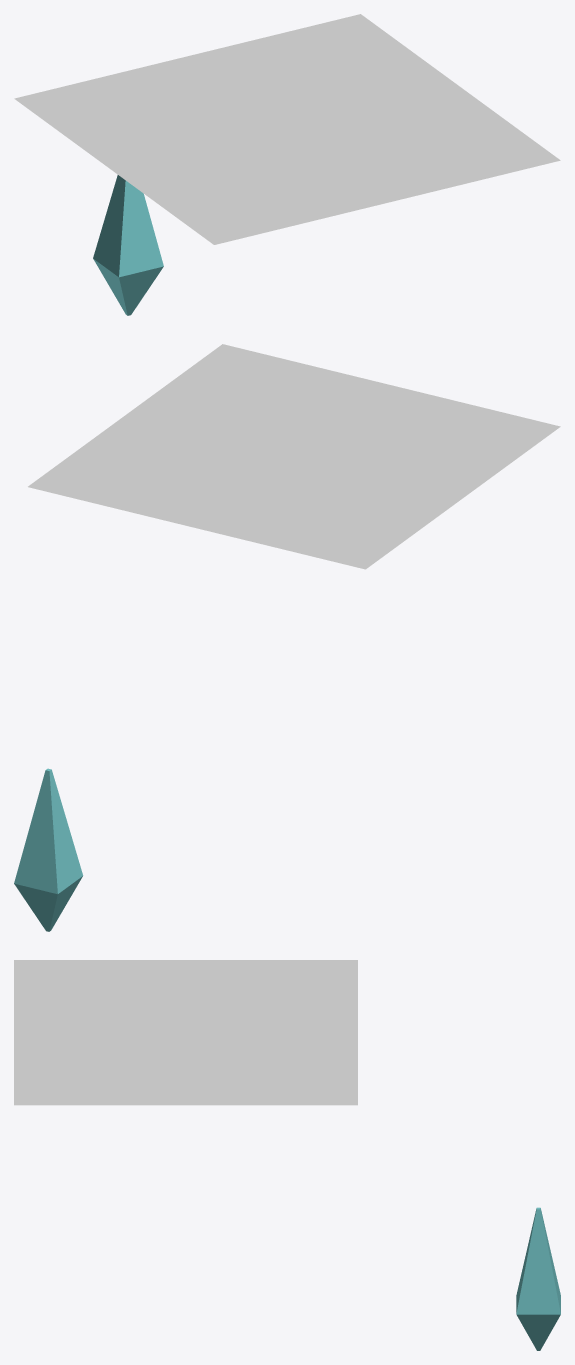
Rendered from Rain.fbx.
3 renders of one model, top to bottom at view 1: azimuth 30°, elevation 25°; view 2: azimuth 150°, elevation 25°; view 3: azimuth 270°, elevation 25°, orthographic. The views are drawn at different scales.
Visible parts, largest first — view 1: Plane, rainDrop; view 2: Plane, rainDrop; view 3: Plane, rainDrop.
Boxes of the visible parts, x1,y1,x2,y2 form: Plane: (14, 14, 560, 244); rainDrop: (93, 175, 163, 315); Plane: (28, 344, 560, 569); rainDrop: (14, 768, 83, 931); Plane: (14, 960, 357, 1105); rainDrop: (516, 1207, 560, 1350).
Bounding box in the file's own units: 1621 × 1549 × 2577.
